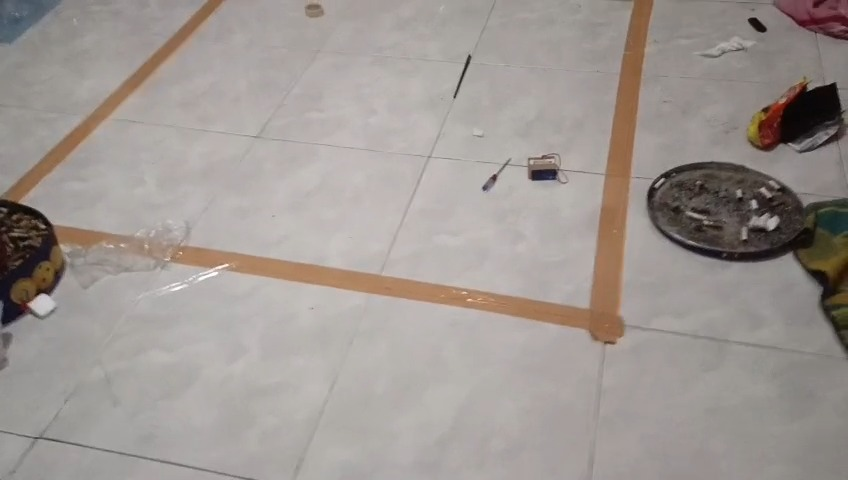floor marking: (176, 0, 652, 342), (4, 0, 223, 199), (55, 226, 128, 245)
